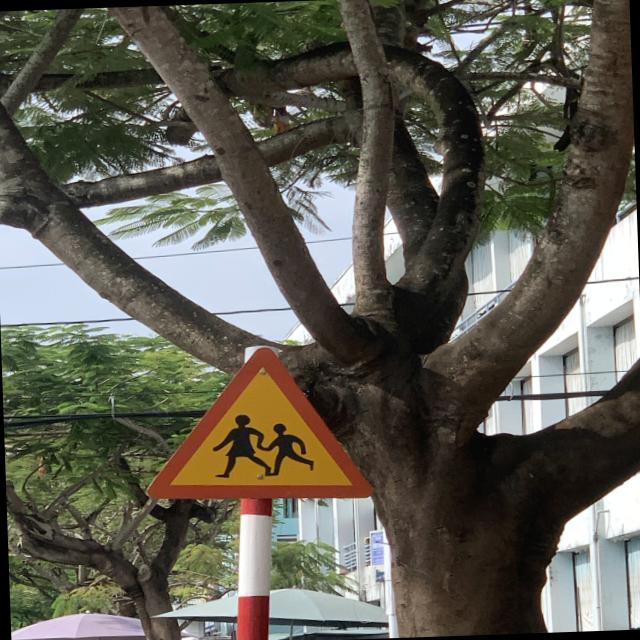Vong_Xuyen: (142, 344, 372, 506)
